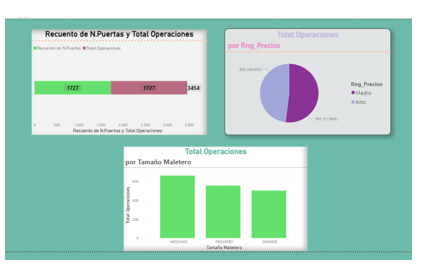

What the dashboard file says about the page in this screenshot:
{"tool":"powerbi","page":{"name":"Dashboard de VentaS de Vehículos – Sección 2","canvas":[1280,720],"ordinal":0},"visuals":[{"type":"barChart","fields":{"Y":["CountNonNull(HEC_Ventas_Coches.N.Puertas)","HEC_Ventas_Coches.Total Operaciones"]},"box":[97.6,33.6,543.3,326.3],"z":0},{"type":"clusteredColumnChart","fields":{"Category":["HEC_Ventas_Coches.Tamaño Maletero"],"Y":["HEC_Ventas_Coches.Total Operaciones"]},"box":[381.8,395.3,570.2,324.6],"z":1000},{"type":"pieChart","fields":{"Category":["HEC_Ventas_Coches.Rng_Precios"],"Y":["HEC_Ventas_Coches.Total Operaciones"]},"box":[694.7,30.3,514.7,329.7],"z":2000}]}

Visuals, with their boxes in screenshot pixels (x1, y1, x2, y2):
barChart - CountNonNull(HEC_Ventas_Coches.N.Puertas) x HEC_Ventas_Coches.Total Operaciones: bbox(29, 28, 206, 134)
clusteredColumnChart - HEC_Ventas_Coches.Tamaño Maletero x HEC_Ventas_Coches.Total Operaciones: bbox(122, 146, 307, 251)
pieChart - HEC_Ventas_Coches.Rng_Precios x HEC_Ventas_Coches.Total Operaciones: bbox(223, 27, 390, 134)
